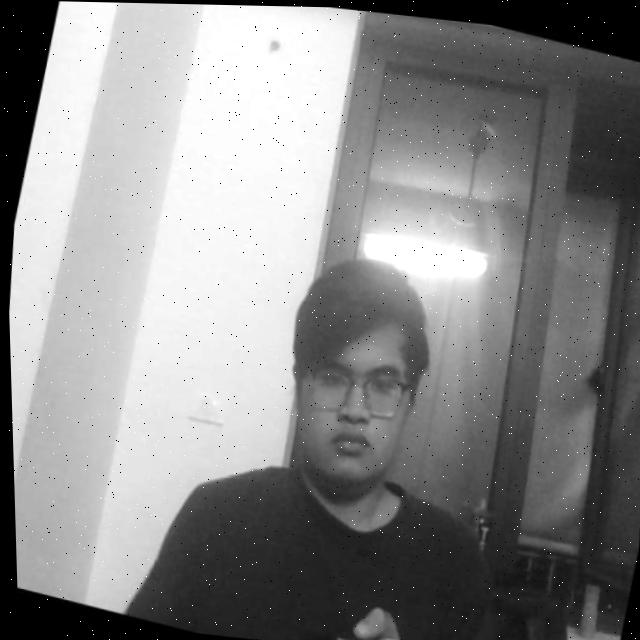phone: (310, 590, 421, 640)
